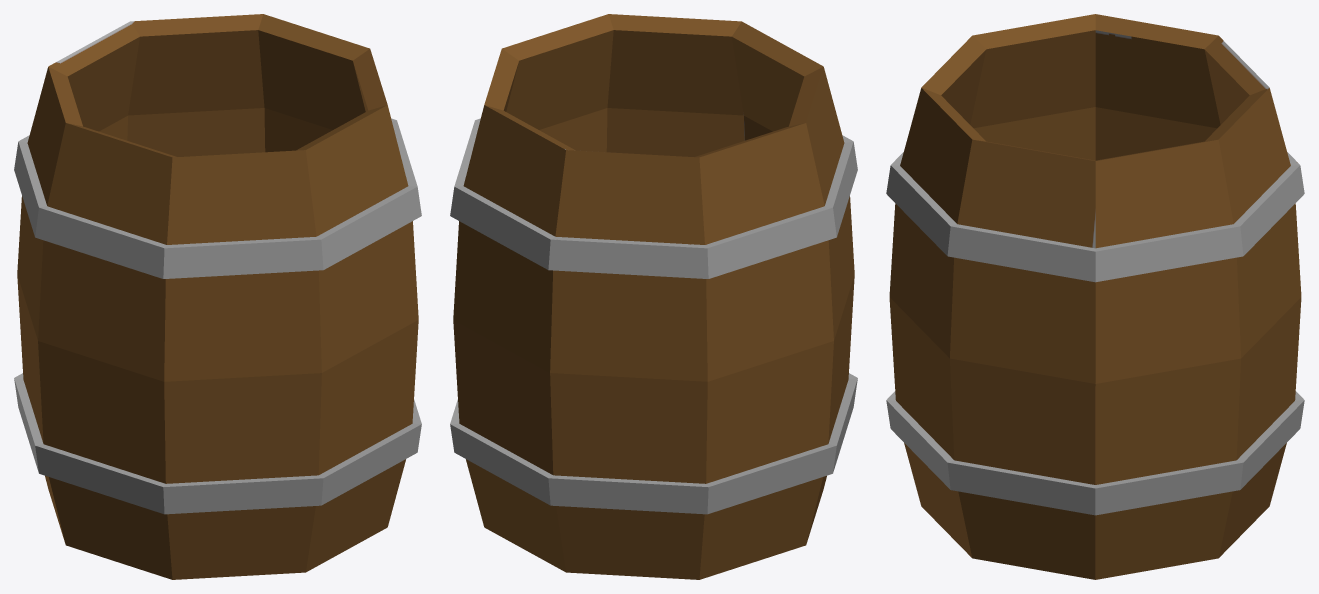
The model's file is barril.fbx.
The picture shows the model from 3 angles, left to right: view 1: azimuth 30°, elevation 25°; view 2: azimuth 150°, elevation 25°; view 3: azimuth 270°, elevation 25°; orthographic projection.
Parts seen in each view (by area): view 1: Cylinder; view 2: Cylinder; view 3: Cylinder.
Boxes of the visible parts, x1,y1,x2,y2 form: Cylinder: (14,14,421,579); Cylinder: (450,14,857,579); Cylinder: (886,14,1304,579).
Size of the model in its own units: 240 by 265 by 240.
1 material, 1 textured.
